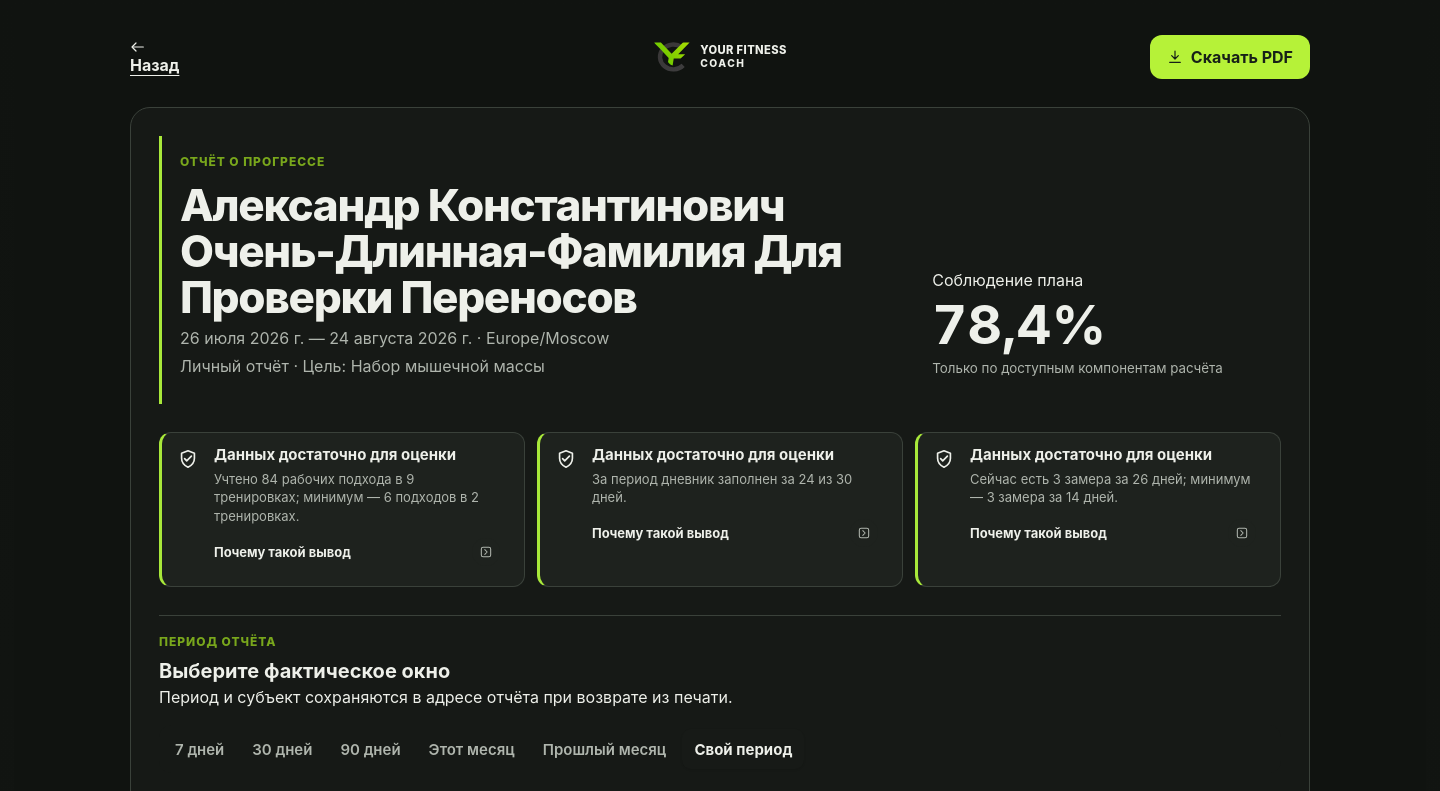
Test case: ProgressReportPage › hands a short-lived PDF file to native Telegram download
expect the heading "Александр Константинович" is shown: met, box [180, 183, 850, 320]
Click the button "Скачать PDF" at [1230, 57], box [1150, 35, 1310, 79]
(page scrolled)
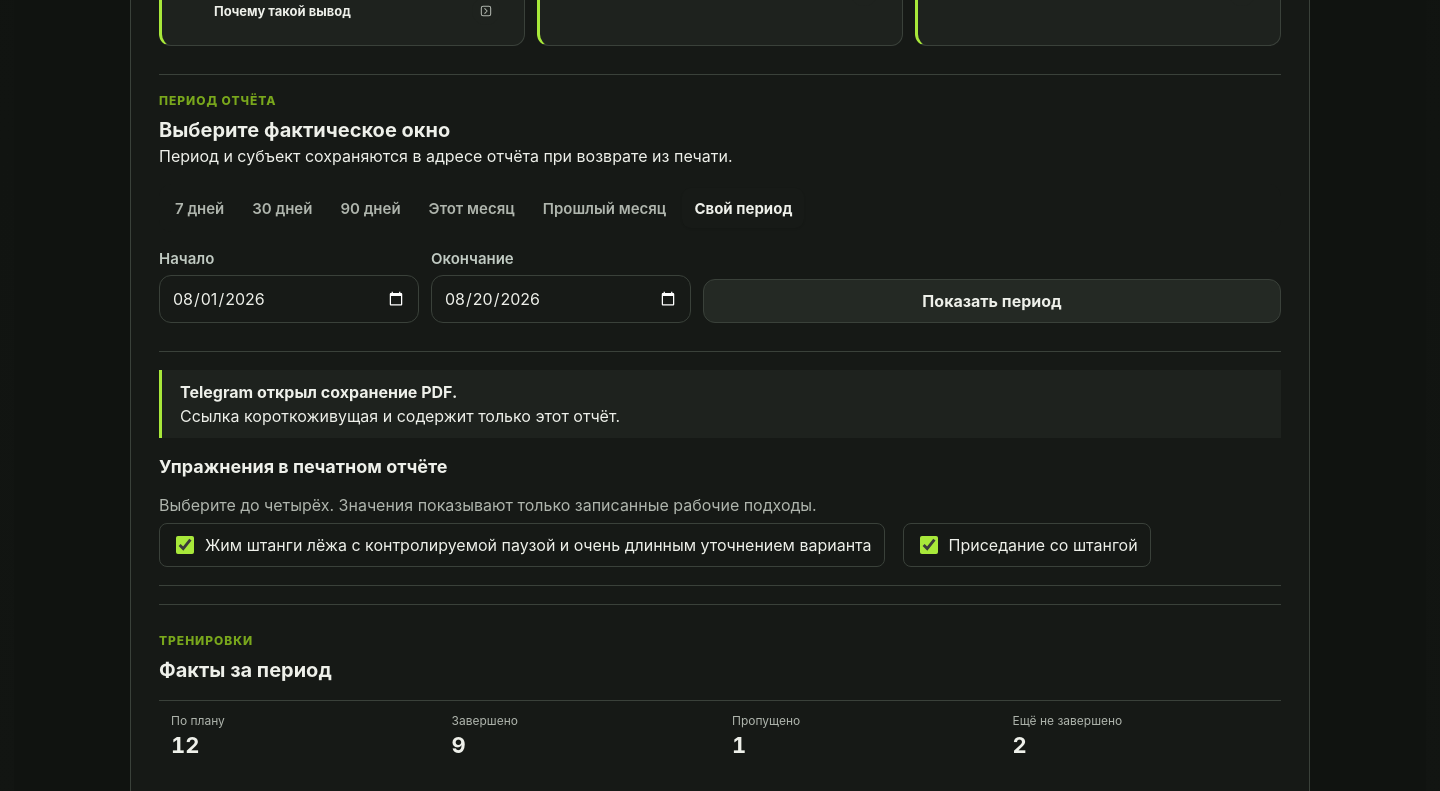
expect the text "Telegram открыл сохранение PDF." is shown: met, box [180, 382, 457, 402]
